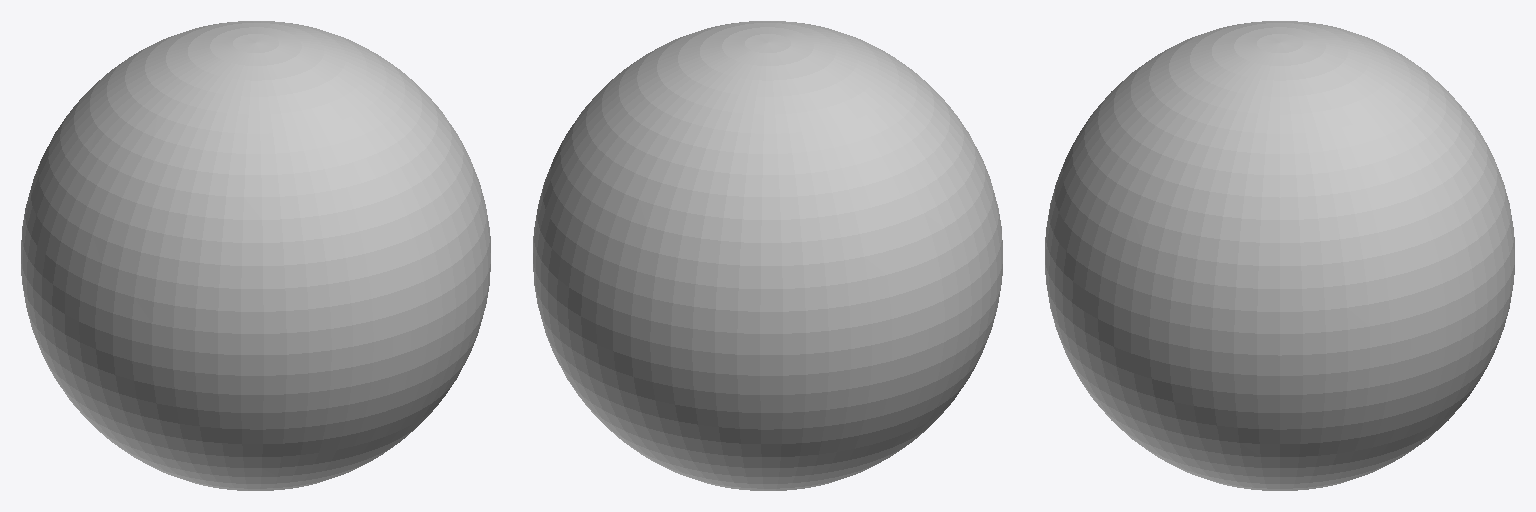
The model's file is Project Name.obj.
The picture shows the model from 3 angles: view 1: azimuth 30°, elevation 25°; view 2: azimuth 150°, elevation 25°; view 3: azimuth 270°, elevation 25°; orthographic projection.
Parts seen in each view (by area): view 1: 000_Sphere; view 2: 000_Sphere; view 3: 000_Sphere.
Boxes of the visible parts, <box> form: 000_Sphere: <box>21,21,490,490</box>; 000_Sphere: <box>533,21,1002,490</box>; 000_Sphere: <box>1045,21,1514,490</box>.
Size of the model in its own units: 100 by 100 by 100.